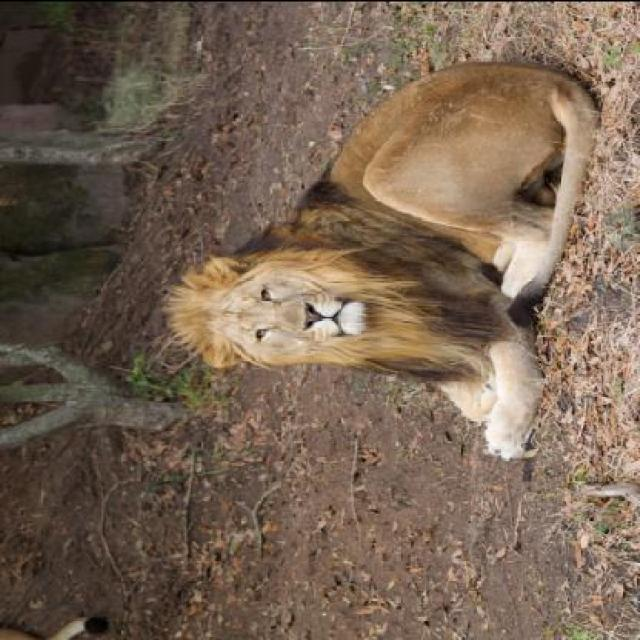Lion: (138, 34, 616, 458)
